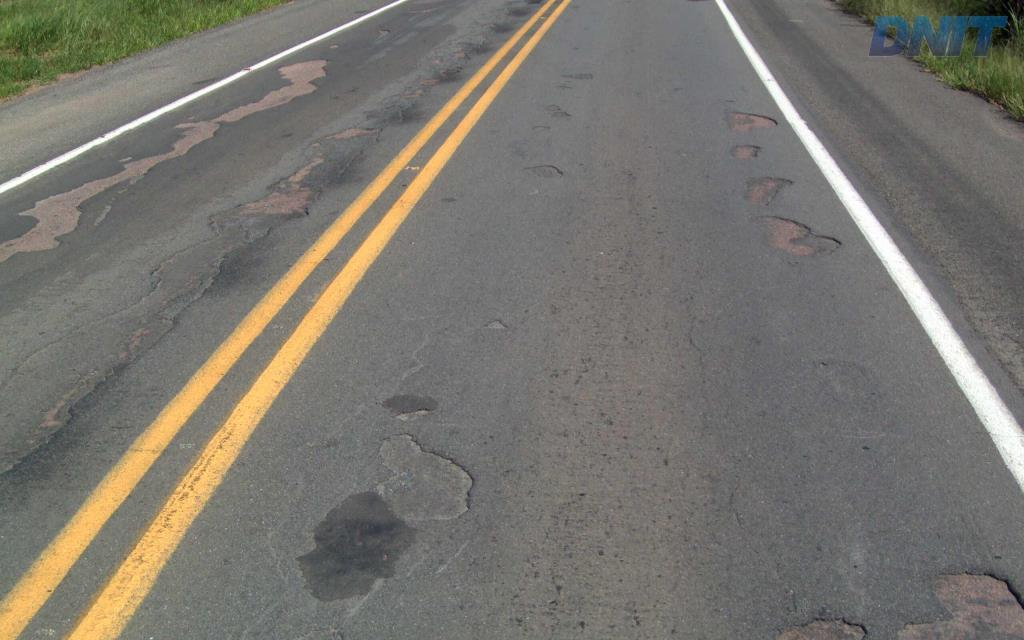pothole: (370, 405, 482, 534), (885, 560, 1022, 638), (747, 215, 843, 265), (769, 611, 870, 638), (735, 170, 797, 210), (724, 108, 781, 132), (521, 161, 569, 182), (728, 138, 767, 161), (481, 314, 513, 333), (530, 122, 556, 133)
